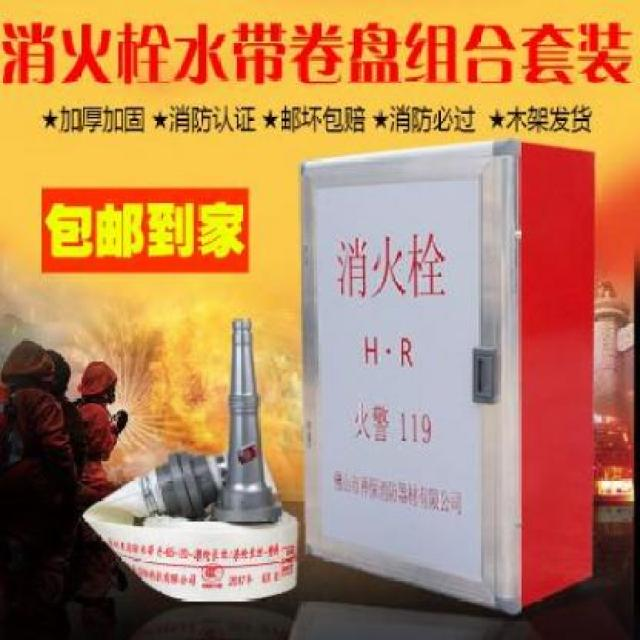firehydrant: (294, 131, 598, 620)
